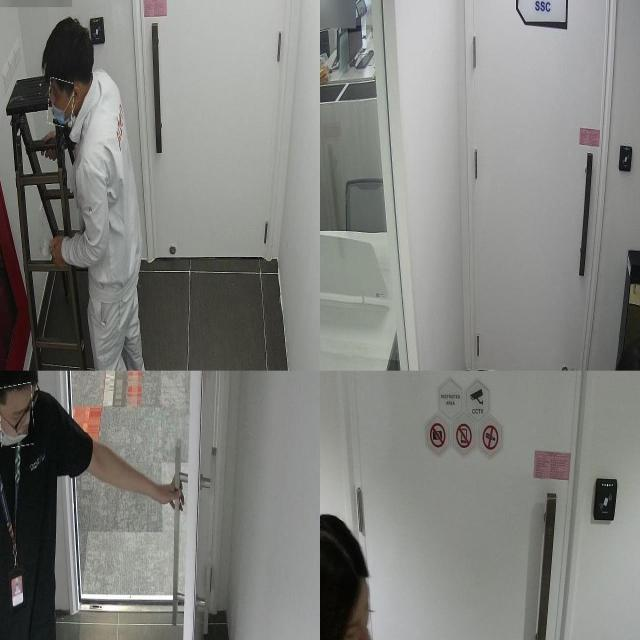hairnet: (0, 383, 34, 448), (48, 78, 74, 126)
